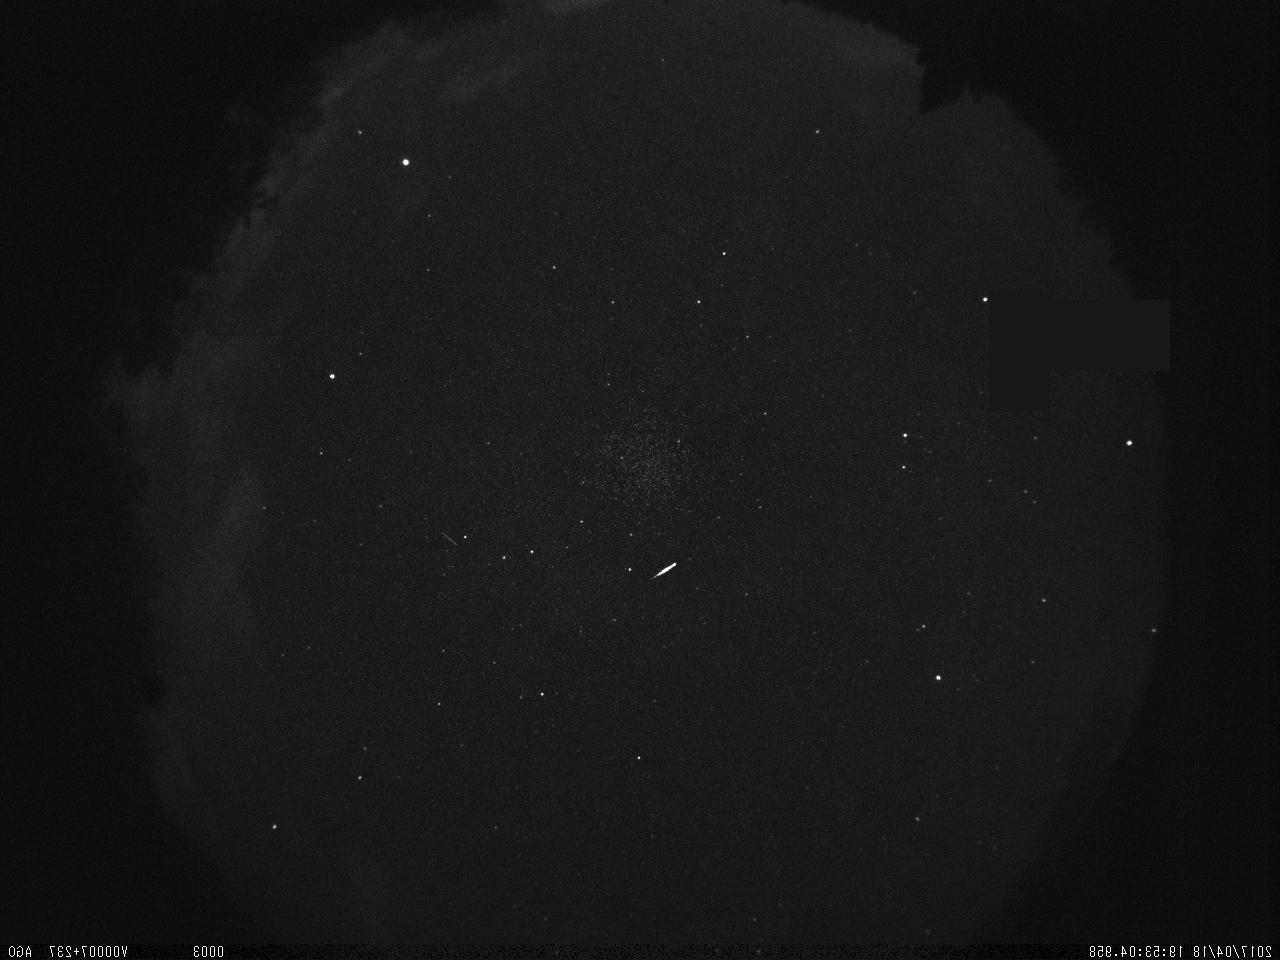meteor: (633, 545, 698, 601)
